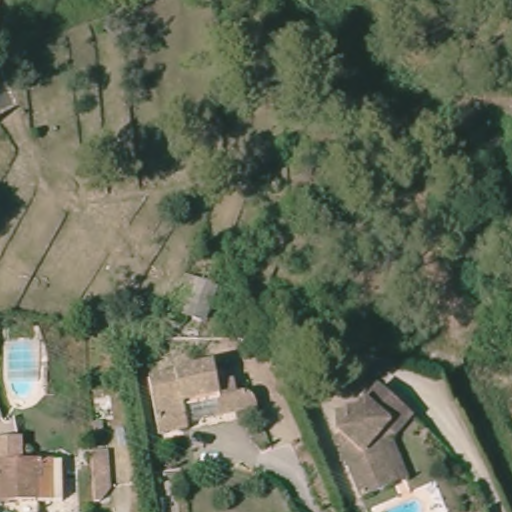pool: (1, 328, 48, 409)
